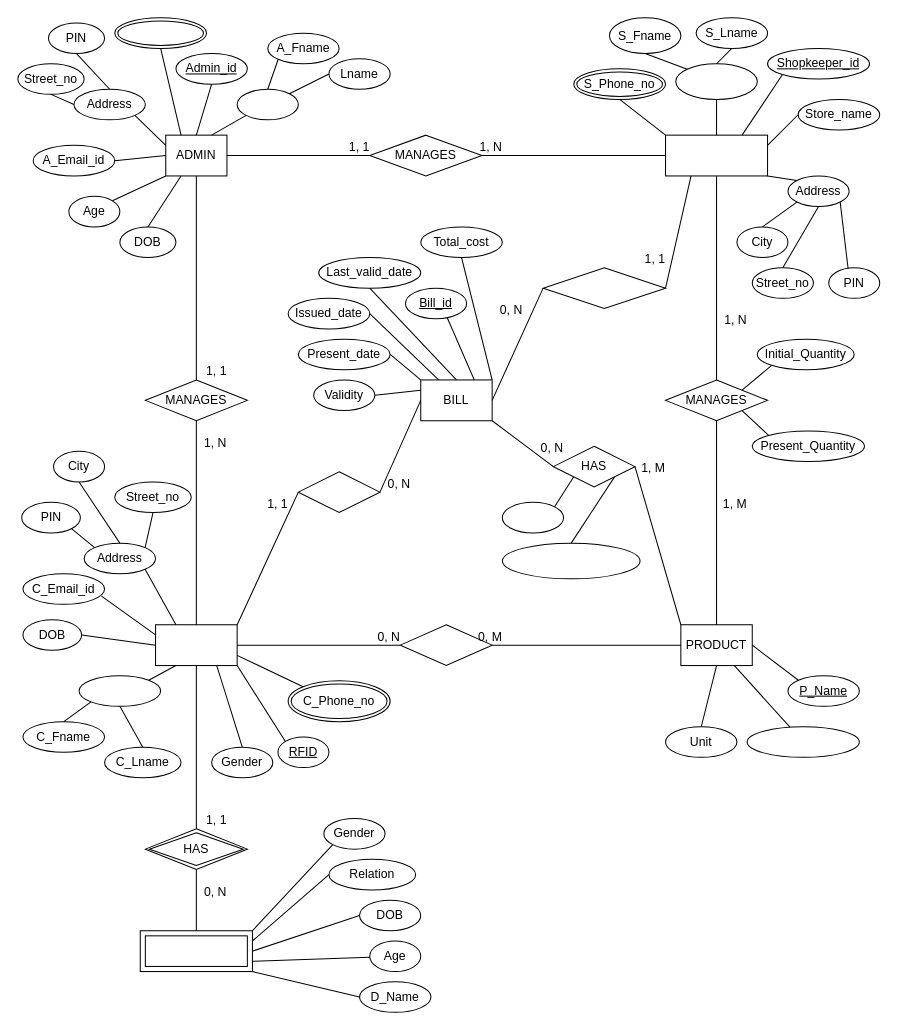
This 898x1030 diagram has some shape labels left out. The shapes that lost their labels are listed below. From the top down, each one's centre as x and y in pixels, then its label:
At [160,32]: "A_Phone_no".
At [716,81]: "S_Name".
At [267,104]: "A_Name".
At [716,155]: "SHOPKEEPER".
At [604,288]: "GENERATES".
At [338,492]: "GETS".
At [532,517]: "Quantity".
At [570,560]: "Total_cost_per_product".
At [196,645]: "CUSTOMER".
At [445,645]: "BUYS".
At [119,690]: "C_Name".
At [802,741]: "Cost_per_unit".
At [195,951]: "DEPENDENTS".
